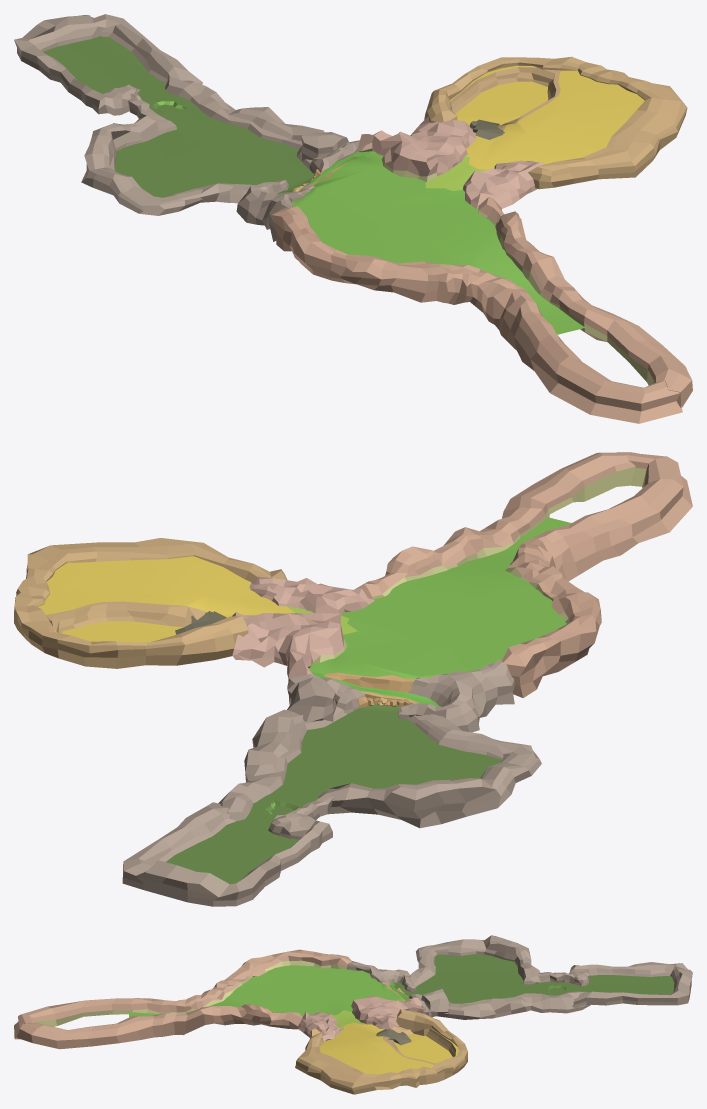
The model's file is MapColor.fbx.
3 renders of one model, top to bottom at view 1: azimuth 30°, elevation 25°; view 2: azimuth 150°, elevation 25°; view 3: azimuth 270°, elevation 25°, orthographic. The views are drawn at different scales.
Parts seen in each view (by area): view 1: Plane, Cube.007, Cube.006, Cube.005, Cube.022, Cube.008, Cube.001, Cube.009, Cube.002, Cube.003, Cube.010, Cube.004; view 2: Plane, Cube.007, Cube.006, Cube.008, Cube.005, Cube.022, Cube.001, Cube.003, Cube.009, Cube.002, Cube.010, Cube.004; view 3: Plane, Cube.005, Cube.007, Cube.006, Cube.022, Cube.008, Cube.009, Cube.001, Cube.002, Cube.003, Cube.010, Cube.011 (+1 smaller).
Boxes of the visible parts, x1,y1,x2,y2 form: Plane: [43, 36, 644, 334]; Cube.007: [271, 206, 682, 423]; Cube.006: [424, 56, 687, 189]; Cube.005: [478, 197, 692, 407]; Cube.022: [14, 14, 202, 115]; Cube.008: [81, 114, 255, 215]; Cube.001: [357, 116, 475, 181]; Cube.009: [165, 76, 324, 169]; Cube.002: [463, 160, 545, 208]; Cube.003: [236, 180, 314, 241]; Cube.010: [300, 132, 348, 160]; Cube.004: [309, 140, 359, 174]; Plane: [38, 517, 571, 884]; Cube.007: [501, 453, 692, 697]; Cube.006: [14, 538, 287, 668]; Cube.008: [318, 714, 541, 828]; Cube.005: [354, 452, 637, 599]; Cube.022: [122, 802, 332, 906]; Cube.001: [232, 612, 347, 681]; Cube.003: [397, 659, 514, 732]; Cube.009: [218, 706, 346, 820]; Cube.002: [249, 576, 374, 614]; Cube.010: [287, 677, 336, 721]; Cube.004: [287, 674, 365, 713]; Plane: [129, 954, 674, 1074]; Cube.005: [17, 1004, 302, 1049]; Cube.007: [14, 949, 351, 1039]; Cube.006: [295, 1009, 467, 1094]; Cube.022: [568, 962, 692, 1007]; Cube.008: [410, 935, 540, 987]; Cube.009: [436, 991, 591, 1019]; Cube.001: [351, 995, 424, 1029]; Cube.002: [298, 1012, 343, 1041]; Cube.003: [347, 961, 416, 991]; Cube.010: [421, 989, 450, 1017]; Cube.011: [537, 972, 583, 985].
Size of the model in its own units: 1443 by 206 by 2577.
